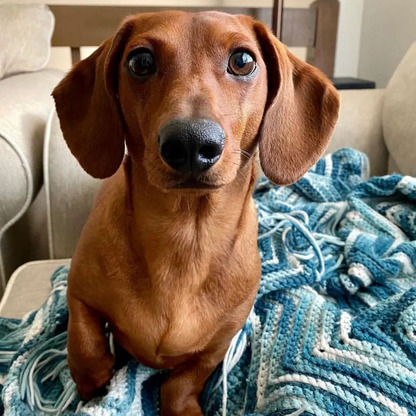dachshund: (50, 23, 334, 405)
